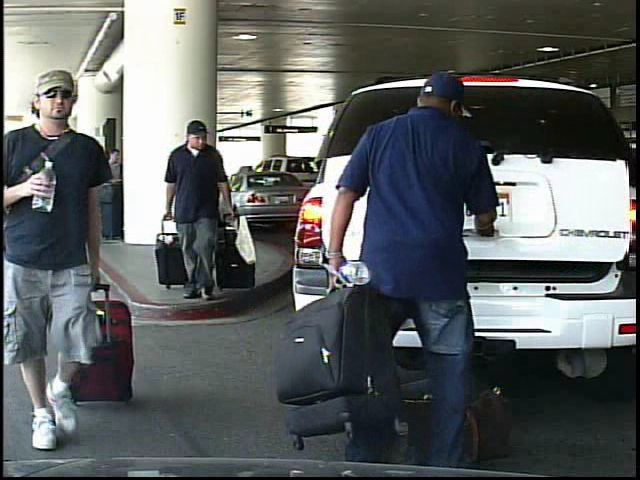person: (327, 74, 519, 474), (5, 75, 144, 461), (158, 118, 250, 303)
